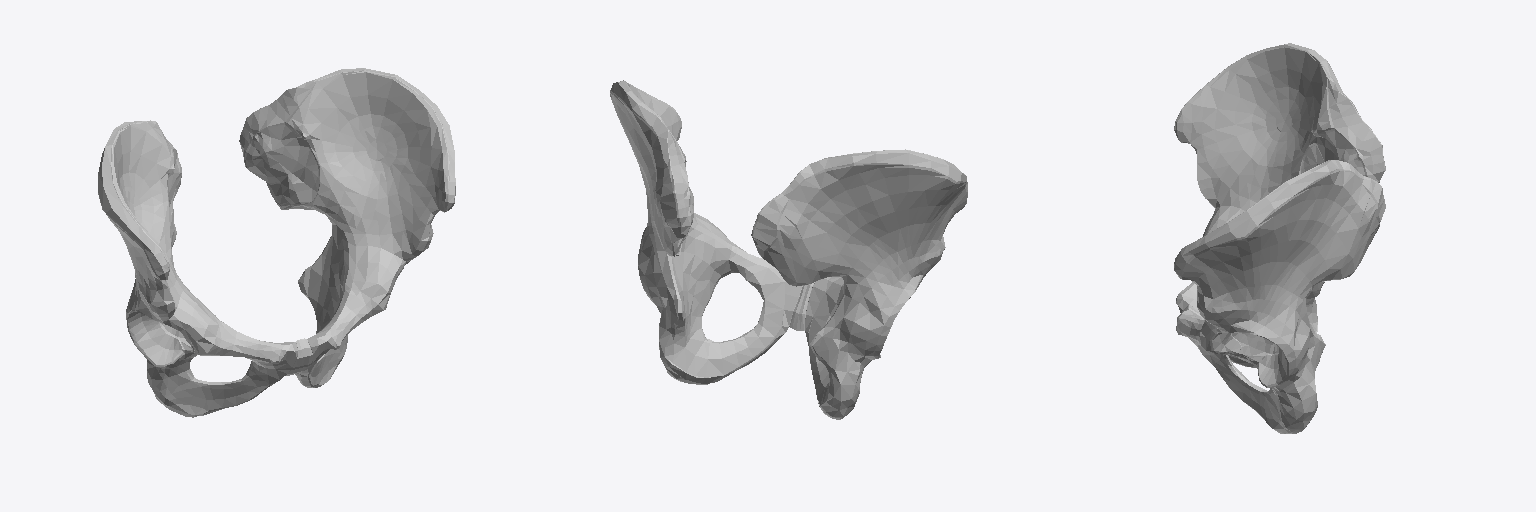
Rendered from hip.obj.
The picture shows the model from 3 angles: view 1: azimuth 30°, elevation 25°; view 2: azimuth 150°, elevation 25°; view 3: azimuth 270°, elevation 25°; orthographic projection.
Parts seen in each view (by area): view 1: Dubuo; view 2: Dubuo; view 3: Dubuo.
Part boxes in pixels (left/top/right/bottom): Dubuo: left=98, top=68, right=455, bottom=417; Dubuo: left=610, top=80, right=967, bottom=419; Dubuo: left=1174, top=43, right=1385, bottom=433.
Bounding box in the file's own units: 10.73 × 8.7 × 5.76.